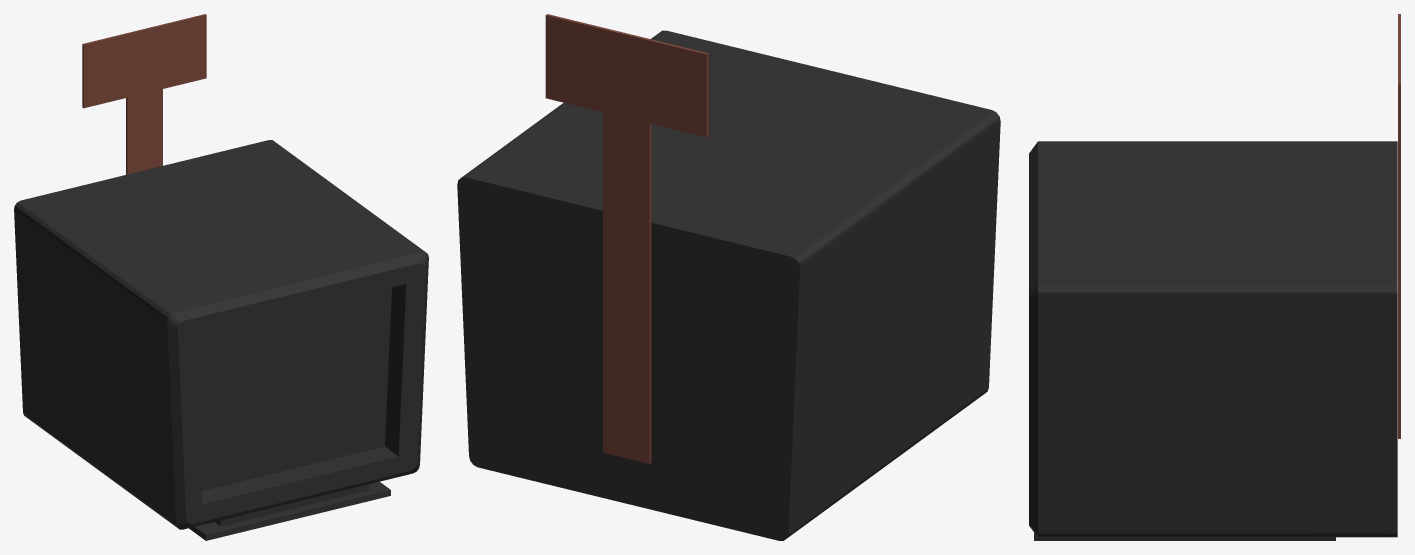
File: monitor.fbx
3 views of the same model, side by side, from view 1: azimuth 30°, elevation 25°; view 2: azimuth 150°, elevation 25°; view 3: azimuth 270°, elevation 25° (orthographic). The views are drawn at different scales.
Parts seen in each view (by area): view 1: pCube8; view 2: pCube8; view 3: pCube8.
Boxes of the visible parts, x1,y1,x2,y2 form: pCube8: (14,14,428,540); pCube8: (457,14,1000,540); pCube8: (1029,14,1400,540).
Bounding box in the file's own units: 3.38 × 4.63 × 3.55.
